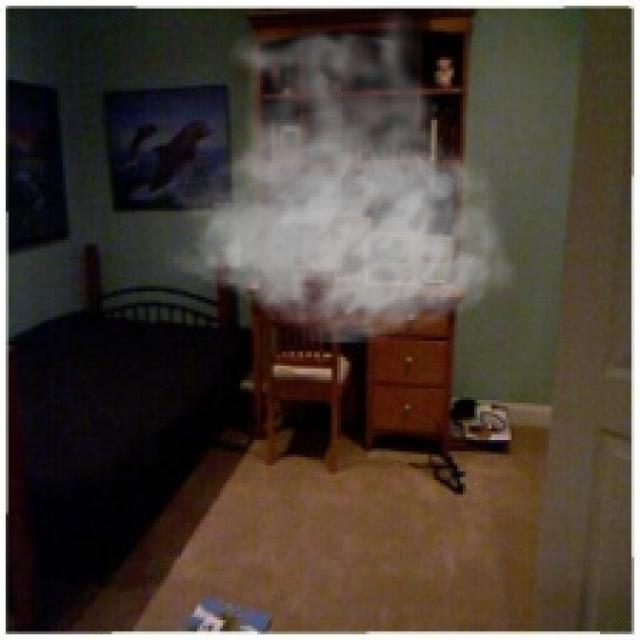smoke: (166, 0, 517, 346)
